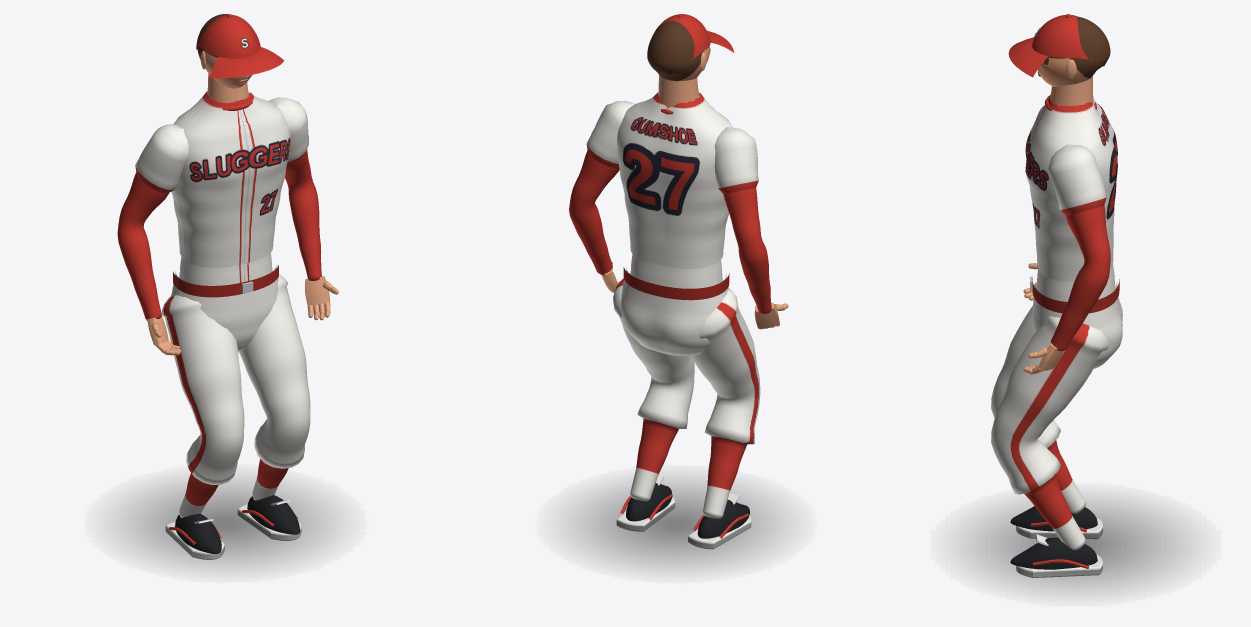
The model's file is player_06_home.glb.
3 views of the same model, side by side, from view 1: azimuth 30°, elevation 25°; view 2: azimuth 150°, elevation 25°; view 3: azimuth 270°, elevation 25° (orthographic). The views are drawn at different scales.
Parts seen in each view (by area): view 1: player_06_home, object 30, object 32, object 2; view 2: player_06_home, object 29, object 2, object 30; view 3: player_06_home, object 30, object 29, object 34, object 2, object 32.
Boxes of the visible parts, x1,y1,x2,y2 form: player_06_home: [116, 91, 334, 569]; object 30: [197, 14, 260, 58]; object 32: [209, 47, 283, 78]; object 2: [207, 73, 248, 101]; player_06_home: [569, 92, 784, 569]; object 29: [647, 21, 709, 74]; object 2: [658, 75, 699, 108]; object 30: [655, 14, 710, 63]; player_06_home: [965, 95, 1186, 591]; object 30: [1032, 14, 1109, 59]; object 29: [1048, 16, 1110, 66]; object 34: [1037, 57, 1101, 86]; object 2: [1050, 76, 1093, 105]; object 32: [1008, 37, 1048, 77].
Size of the model in its own units: 3.37 by 6.22 by 3.37.
27 materials, 5 textured.
